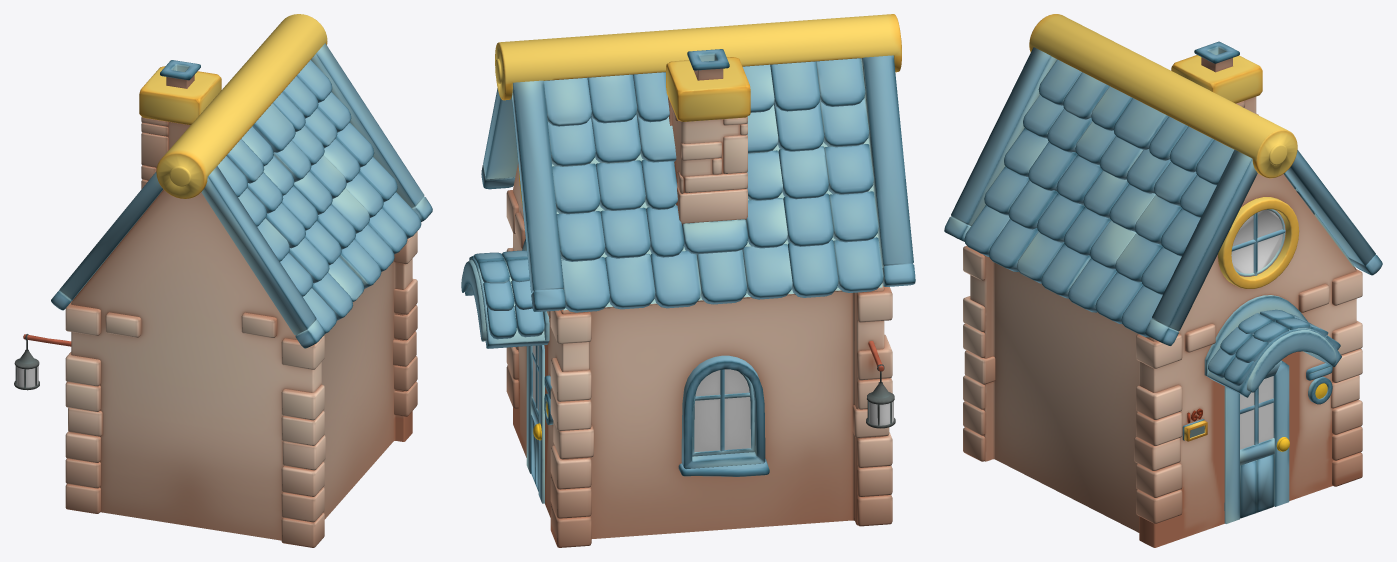
Rendered from case_set3_casa1_LODs.fbx.
The picture shows the model from 3 angles, left to right: view 1: azimuth 30°, elevation 25°; view 2: azimuth 150°, elevation 25°; view 3: azimuth 270°, elevation 25°; orthographic projection. The views are drawn at different scales.
Parts seen in each view (by area): view 1: case_set3_casa1_LOD0; view 2: case_set3_casa1_LOD0; view 3: case_set3_casa1_LOD0.
Part boxes in pixels (x1=…): case_set3_casa1_LOD0: x1=14, y1=14, x2=432, y2=547; case_set3_casa1_LOD0: x1=461, y1=14, x2=915, y2=547; case_set3_casa1_LOD0: x1=944, y1=14, x2=1382, y2=547.
Size of what is drawn, in the model's own units: 491 by 473 by 473.
